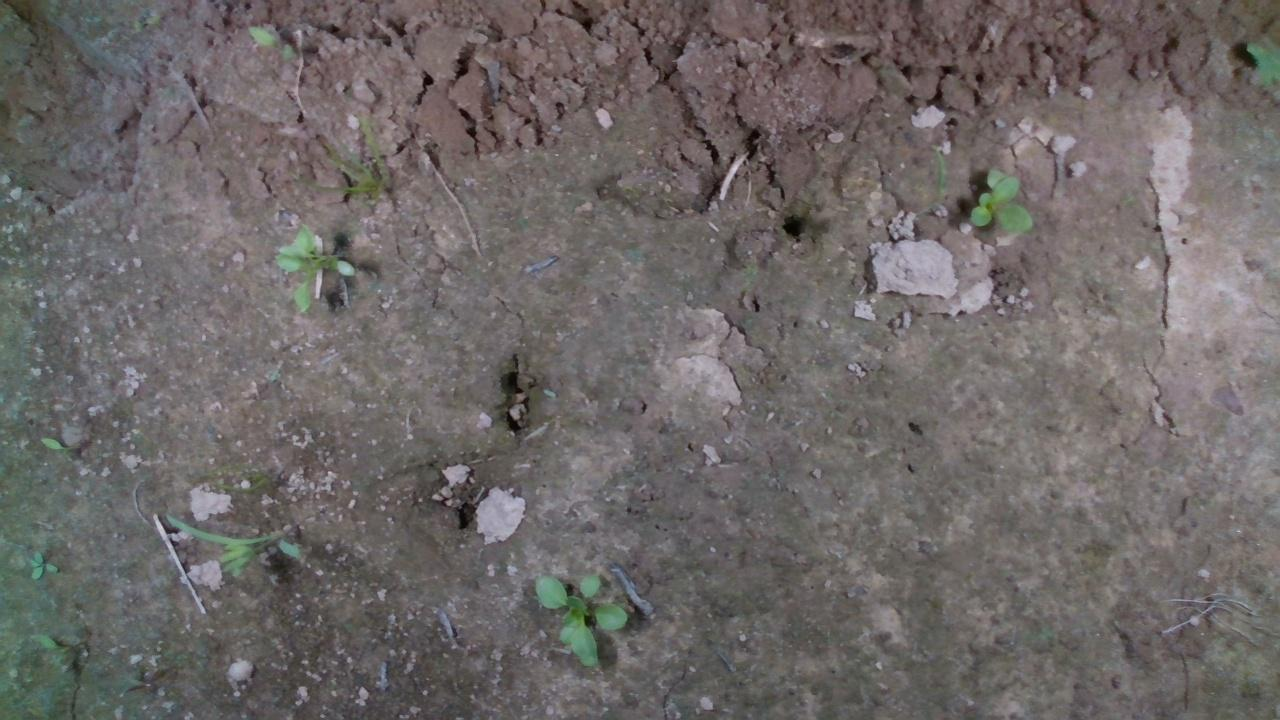weed: (24, 548, 59, 581)
